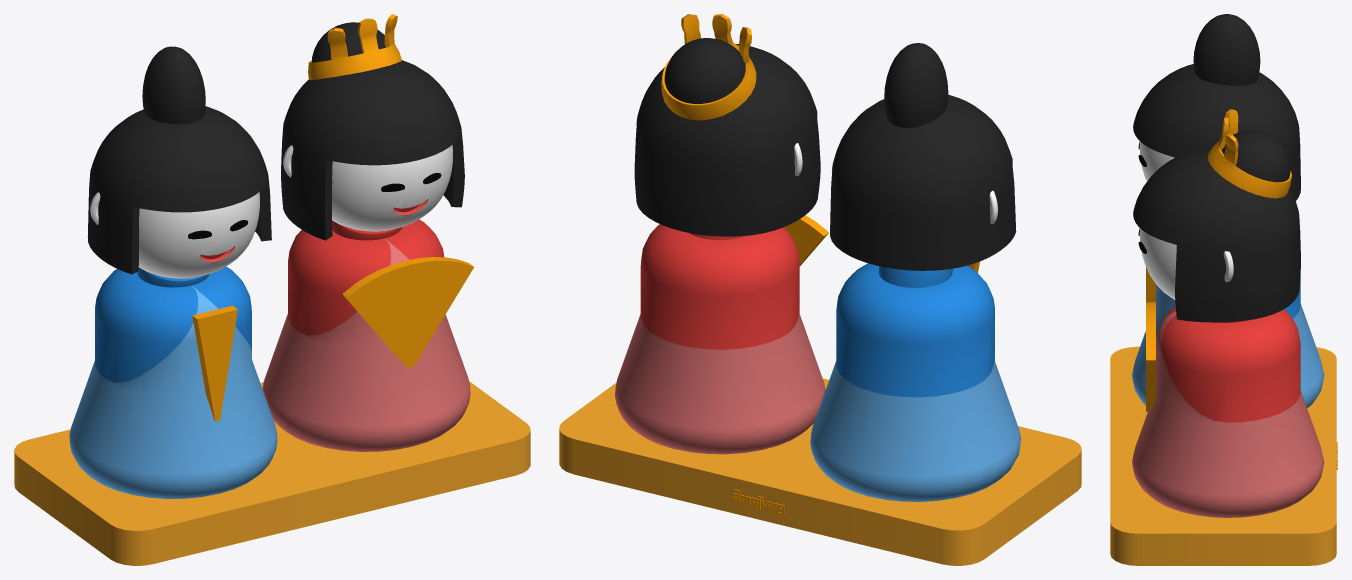
File: japanese_dolls.fbx
The picture shows the model from 3 angles, left to right: view 1: azimuth 30°, elevation 25°; view 2: azimuth 150°, elevation 25°; view 3: azimuth 270°, elevation 25°; orthographic projection. The views are drawn at different scales.
Visible parts, largest first — view 1: Cube.922; view 2: Cube.922; view 3: Cube.922.
Boxes of the visible parts, <box> form: Cube.922: <box>14,14,530,565</box>; Cube.922: <box>559,14,1081,565</box>; Cube.922: <box>1110,14,1337,565</box>.
Size of the model in its own units: 221 by 227 by 113.
Materials: 1 (1 with a texture image).
